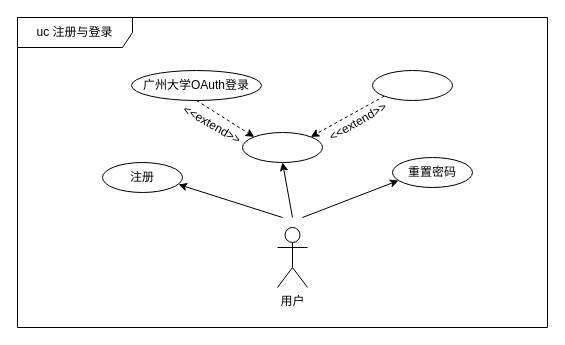
Some shapes in this 565 by 345 pixel diagram are drawn without their labels. Here are the shapes that lost their labels. From the top down, the centre of each, then its label:
point 412,85: 第三方登录
point 282,147: 登录
